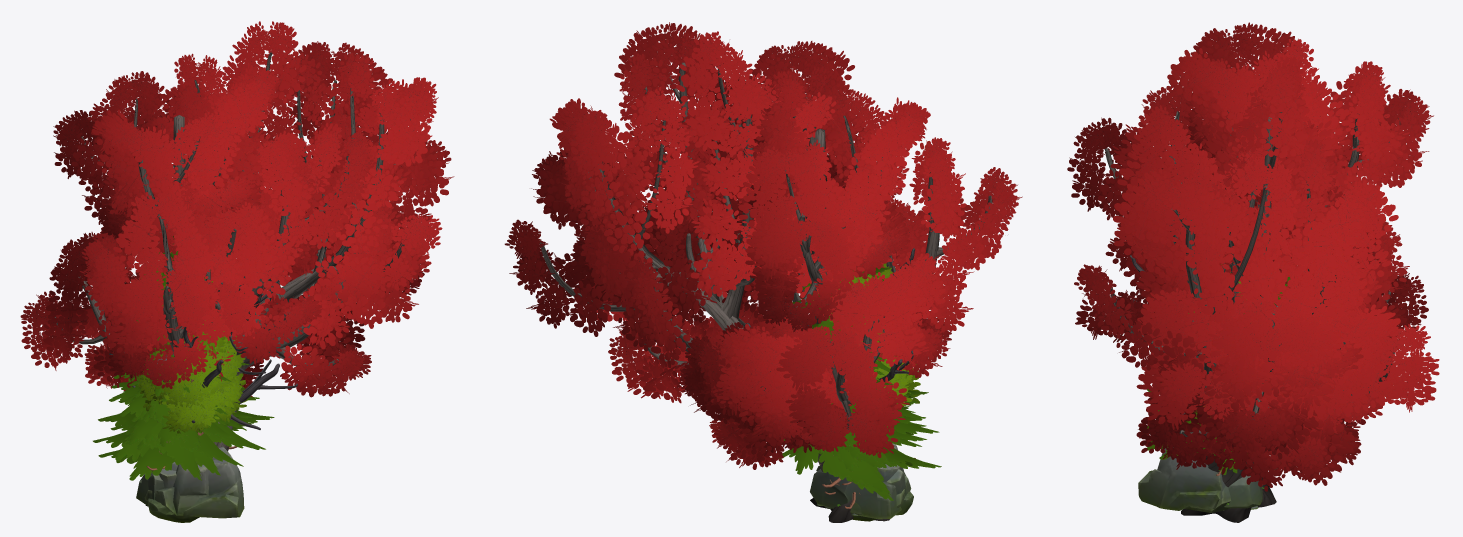
The model's file is nature.glb.
The picture shows the model from 3 angles, left to right: view 1: azimuth 30°, elevation 25°; view 2: azimuth 150°, elevation 25°; view 3: azimuth 270°, elevation 25°; orthographic projection. The views are drawn at different scales.
Parts seen in each view (by area): view 1: TwistedTree_3, TwistedTree_1, Rock_Medium_3, Pine_2, Pine_5, Pine_4, CommonTree_3, CommonTree_1, CommonTree_2, Rock_Medium_1, DeadTree_1, Pine_1; view 2: TwistedTree_1, TwistedTree_3, Pine_5, Rock_Medium_2, Pine_2, Pine_4; view 3: TwistedTree_1, TwistedTree_3, Rock_Medium_3, Rock_Medium_2.
Part boxes in pixels (box(x1,y1,x2,y2)): TwistedTree_3: box(20, 53, 376, 396); TwistedTree_1: box(106, 21, 454, 506); Rock_Medium_3: box(148, 446, 244, 522); Pine_2: box(98, 374, 253, 480); Pine_5: box(93, 380, 274, 475); Pine_4: box(98, 236, 248, 470); CommonTree_3: box(141, 278, 245, 411); CommonTree_1: box(139, 334, 247, 433); CommonTree_2: box(136, 330, 245, 435); Rock_Medium_1: box(144, 464, 209, 515); DeadTree_1: box(109, 266, 297, 429); Pine_1: box(110, 336, 235, 450); TwistedTree_1: box(504, 22, 927, 522); TwistedTree_3: box(676, 41, 1022, 469); Pine_5: box(783, 291, 931, 492); Rock_Medium_2: box(810, 464, 901, 519); Pine_2: box(778, 377, 941, 500); Pine_4: box(819, 267, 939, 509); TwistedTree_1: box(1074, 56, 1439, 522); TwistedTree_3: box(1067, 22, 1433, 479); Rock_Medium_3: box(1138, 447, 1225, 510); Rock_Medium_2: box(1224, 475, 1262, 508).
Bounding box in the file's own units: 15.83 × 16.86 × 11.71.
Materials: 12 (12 with a texture image).
